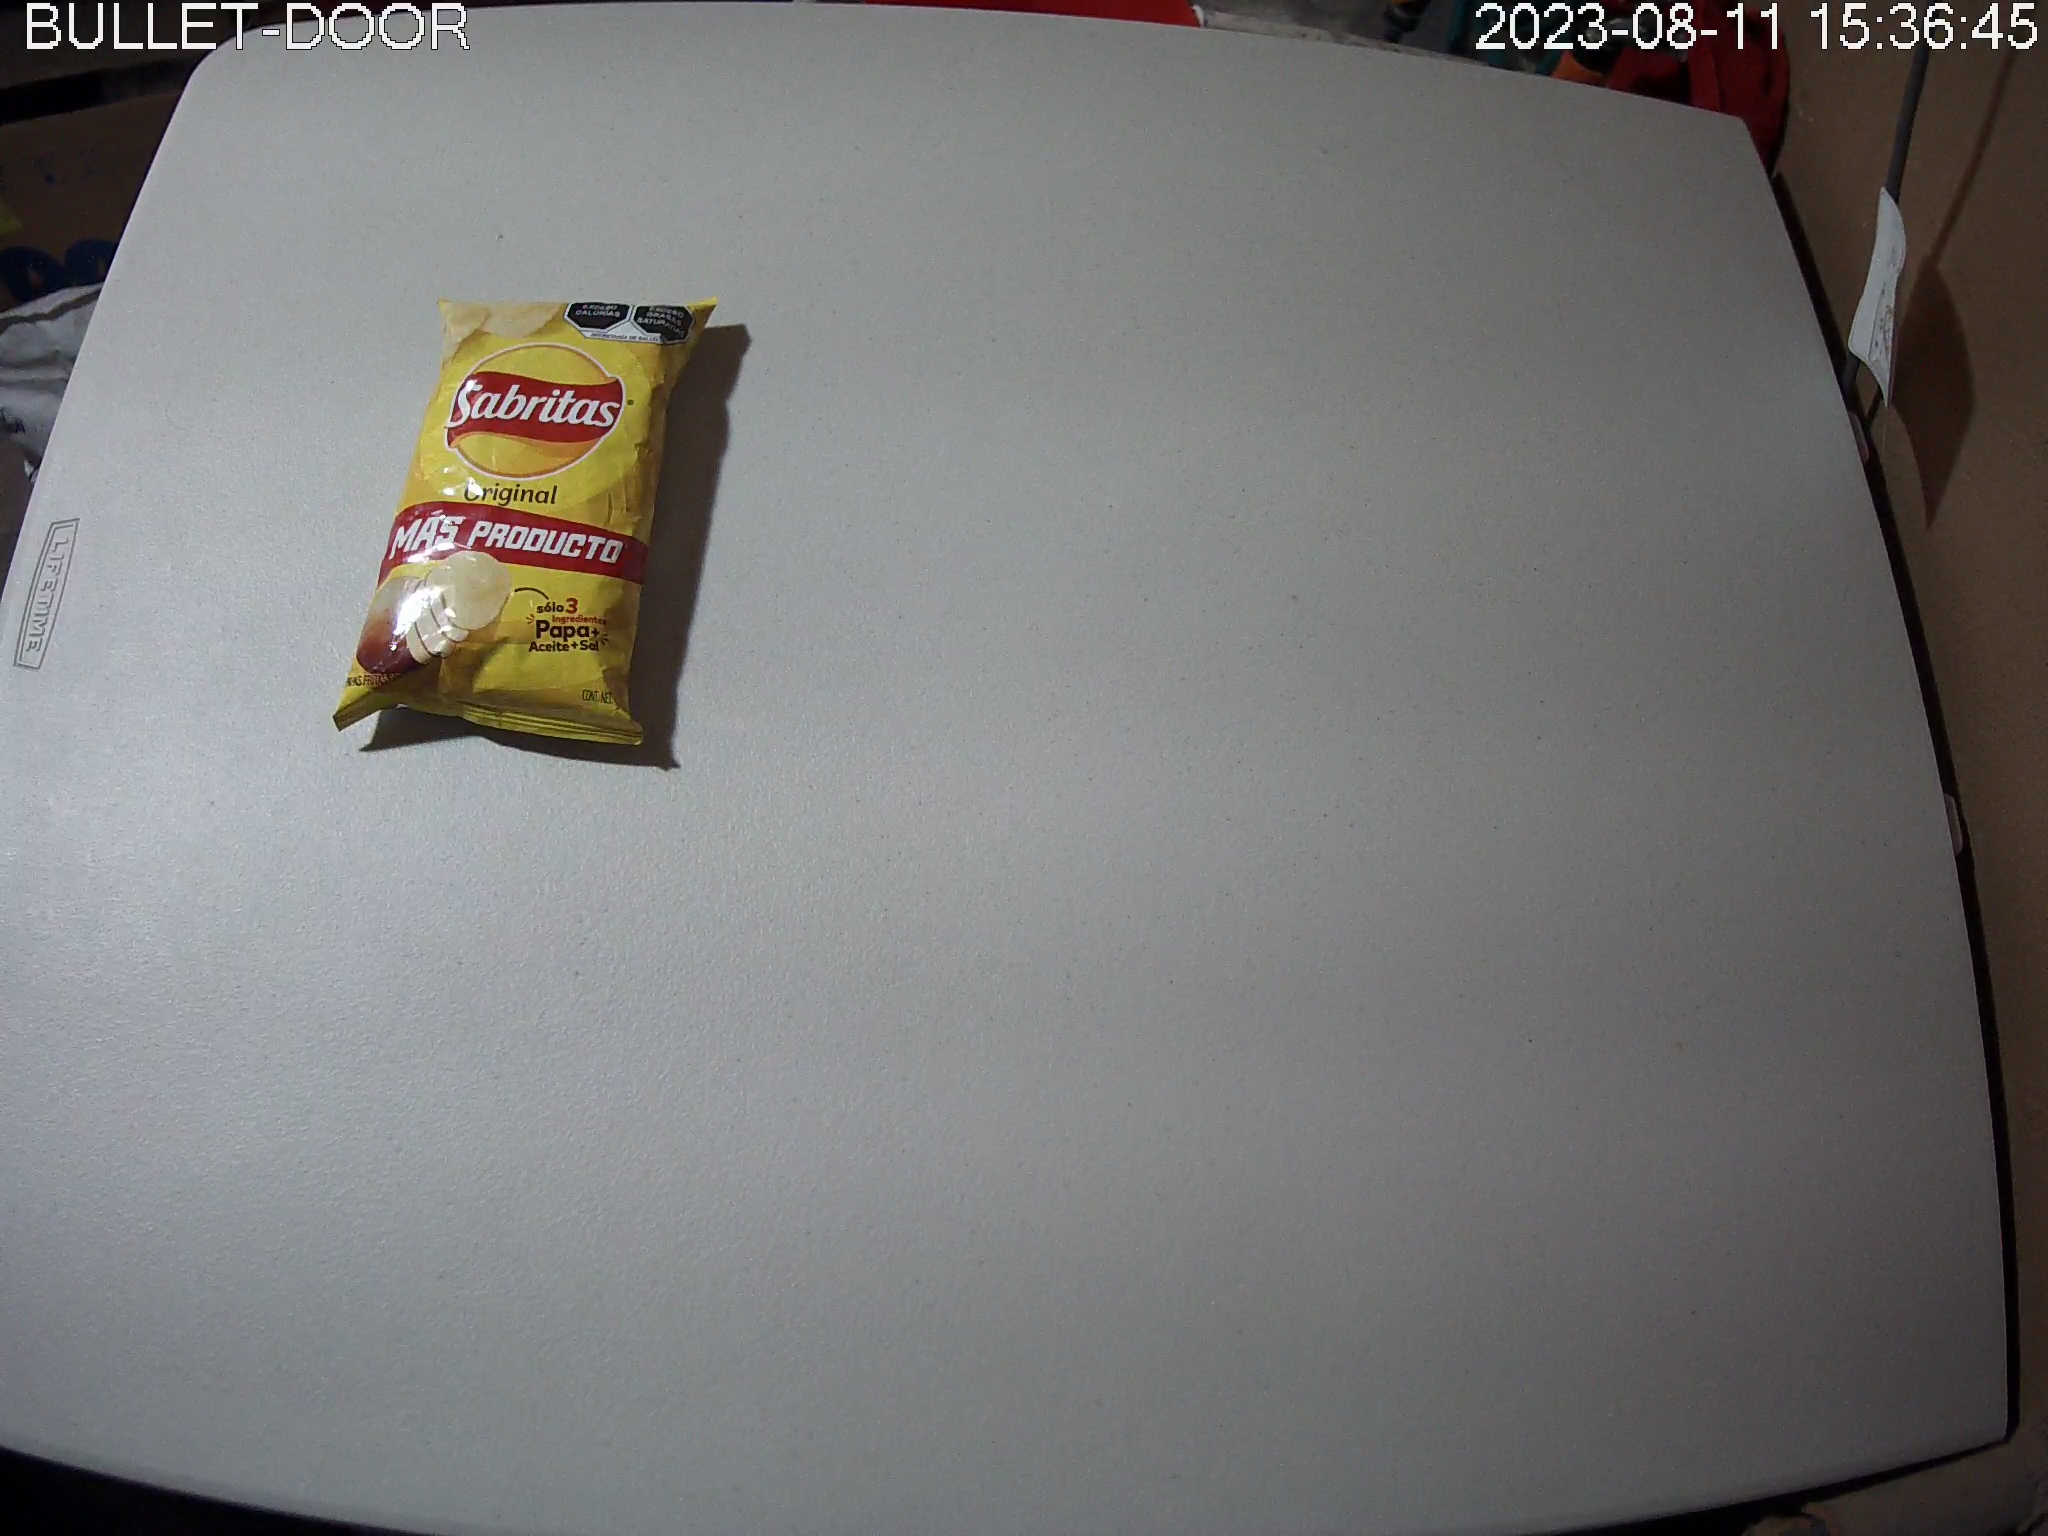Sabritas_45_F: (335, 295, 722, 747)
